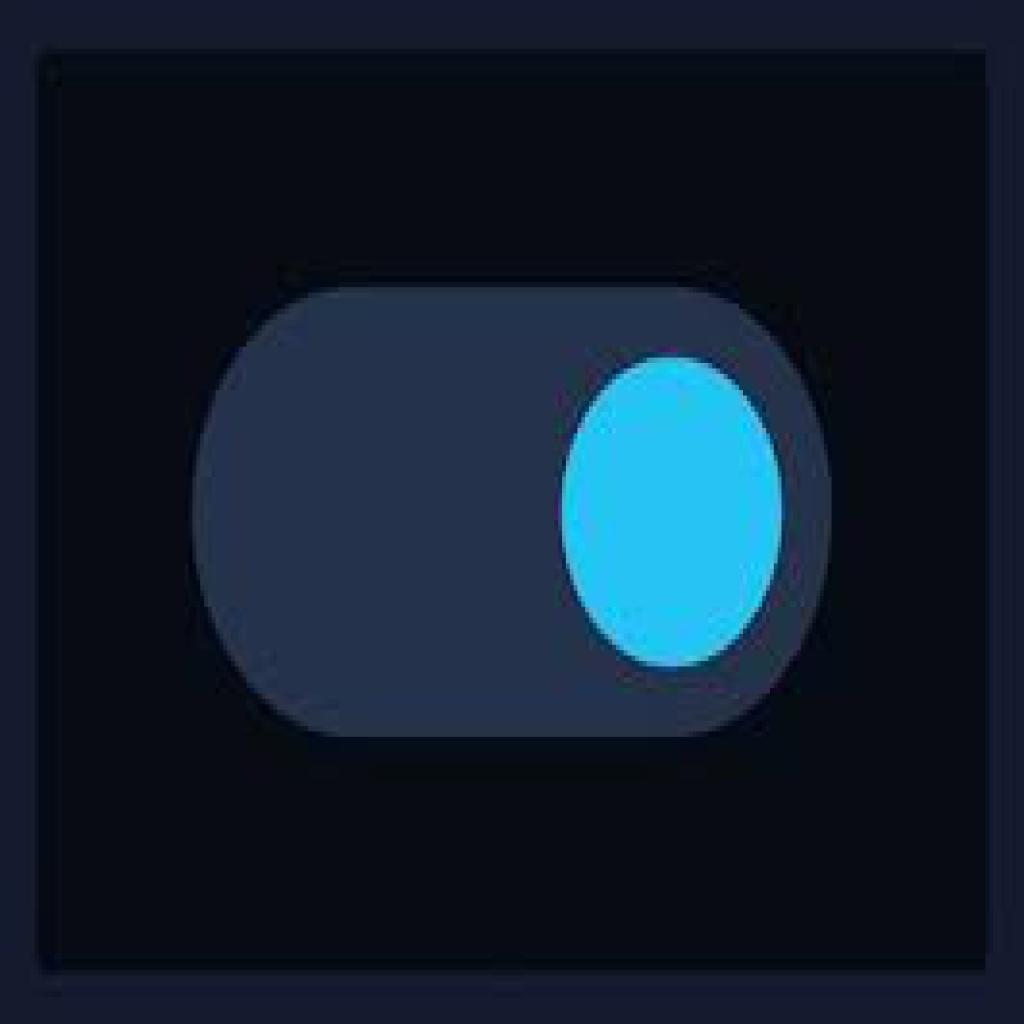switch: (193, 284, 837, 741)
